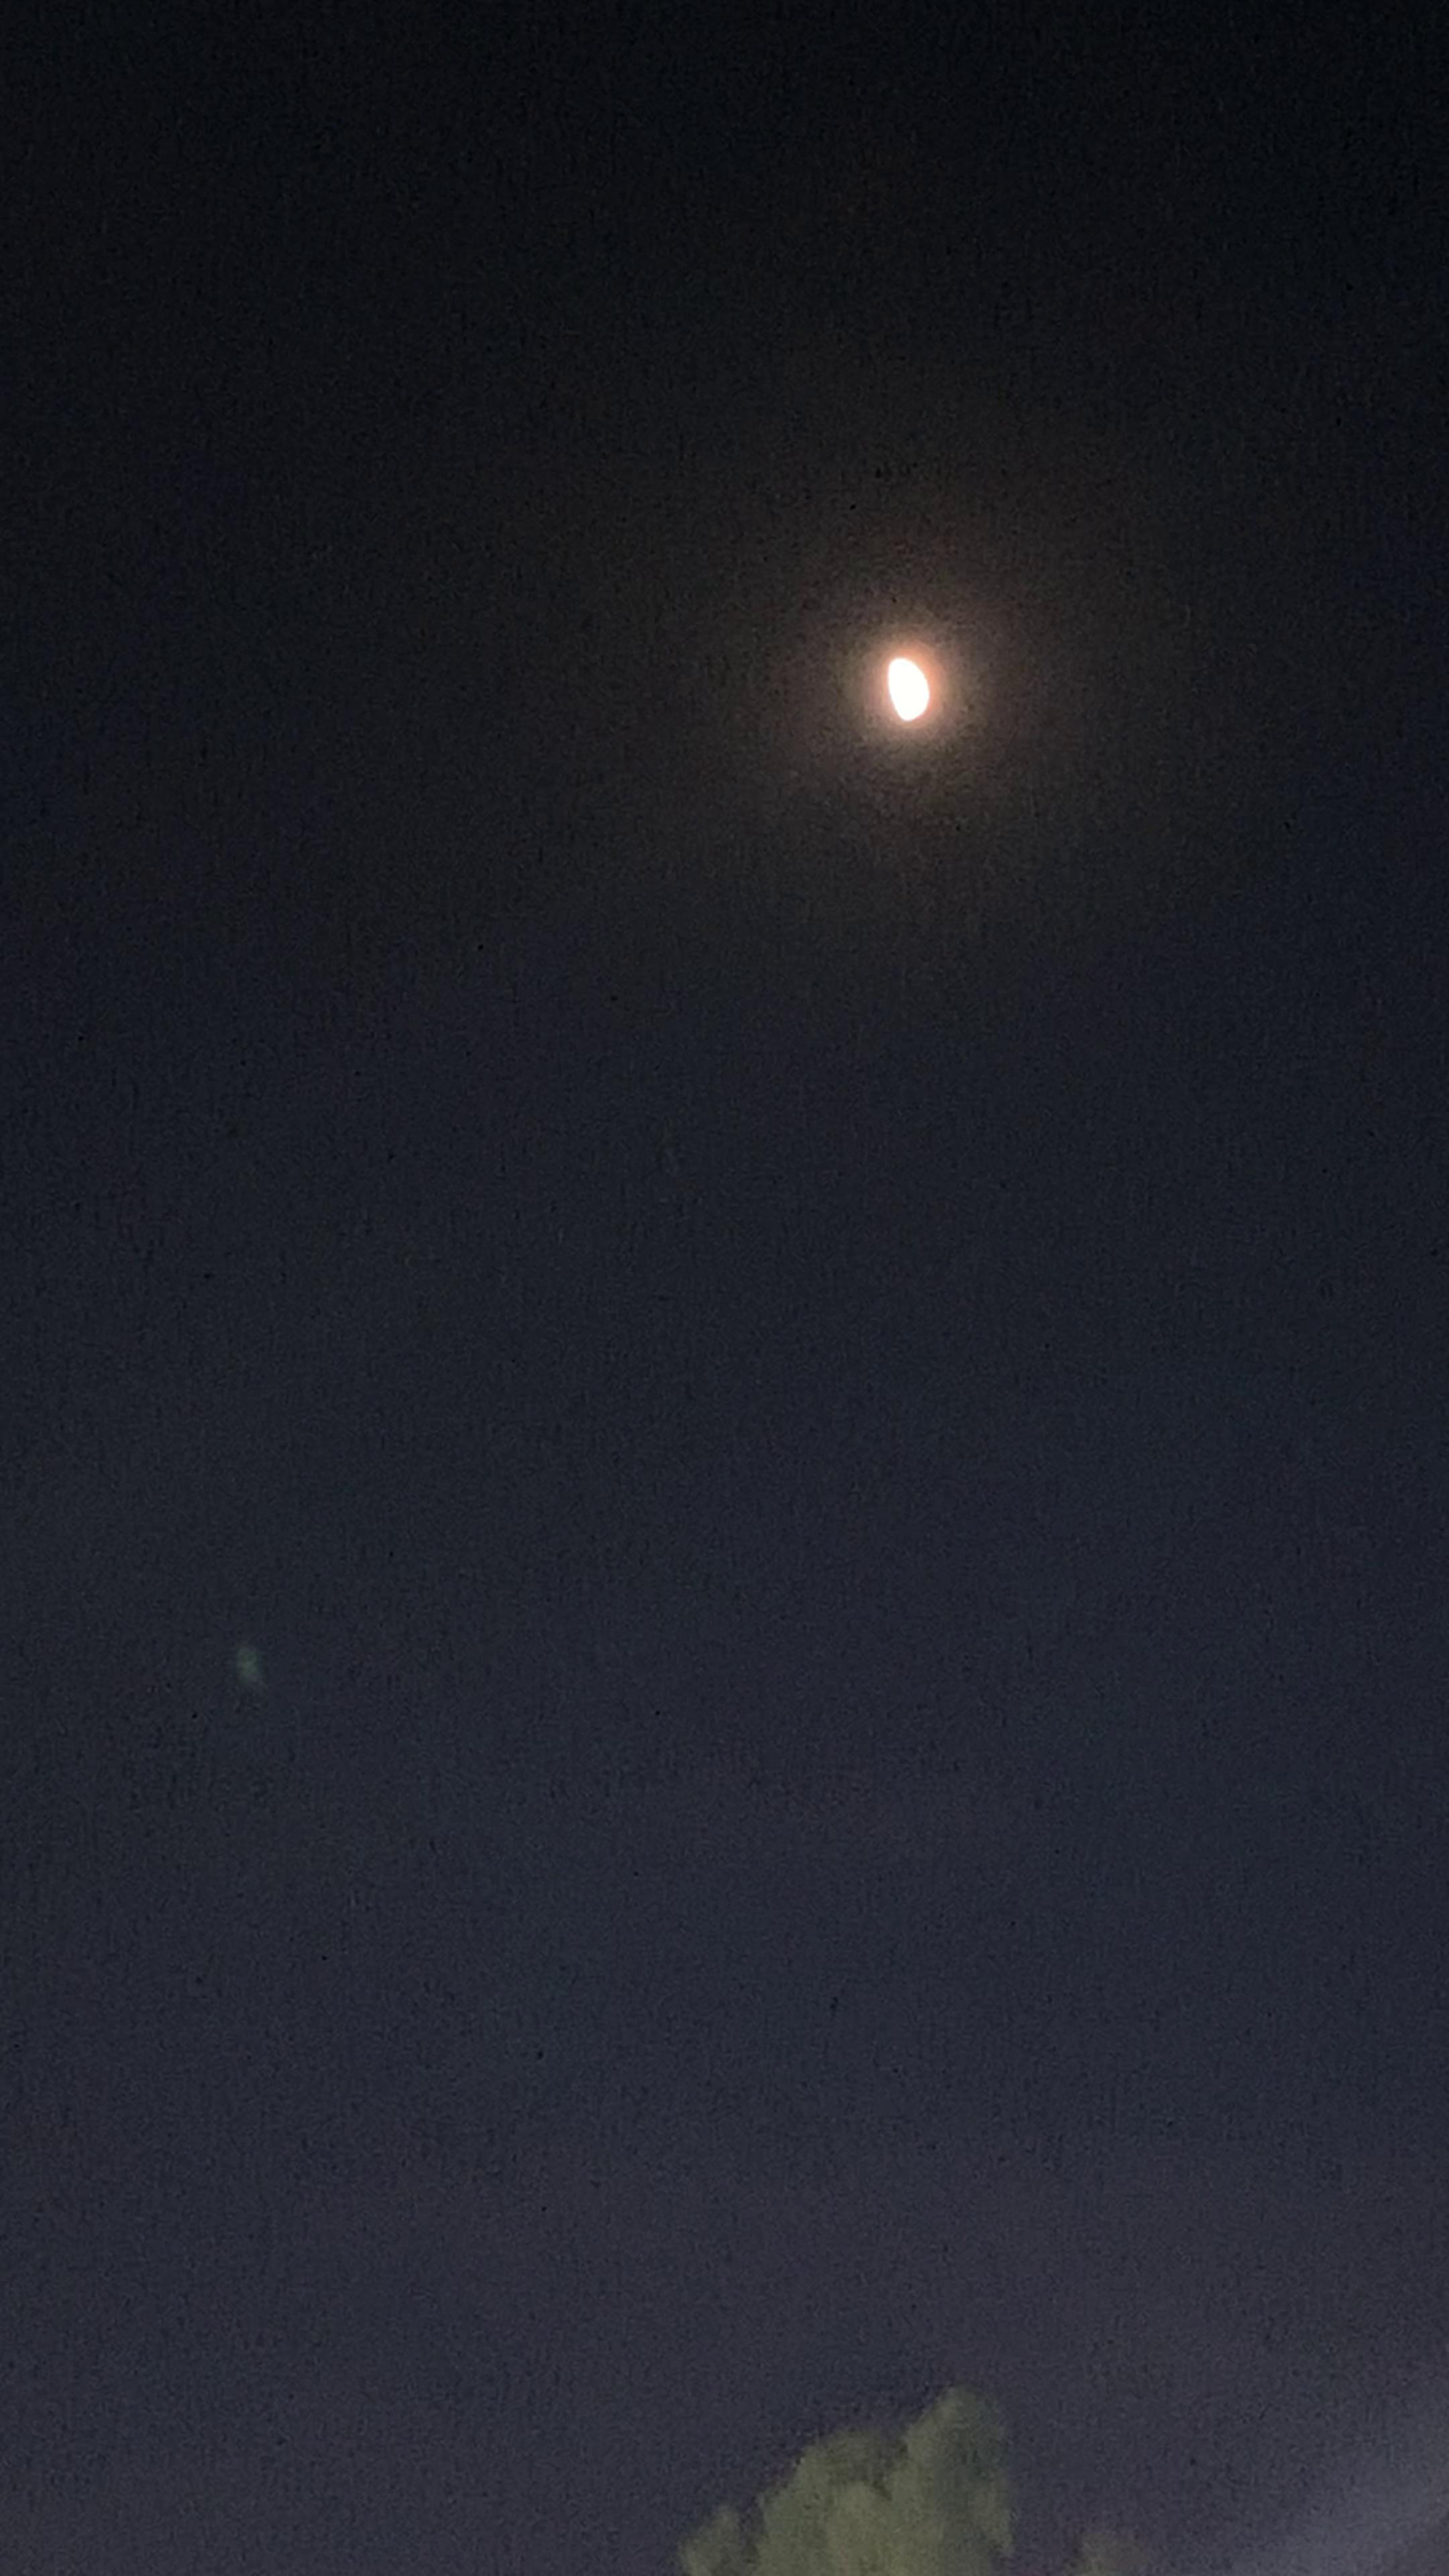moon: (828, 621, 989, 768)
